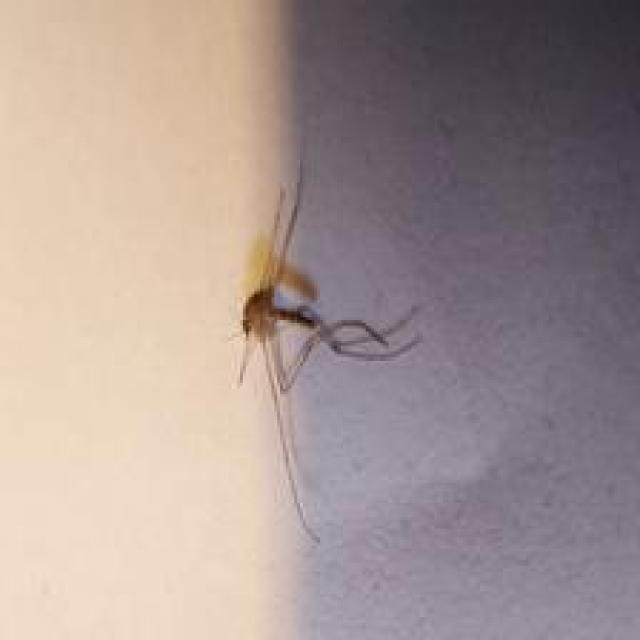Culex: (231, 165, 423, 546)
